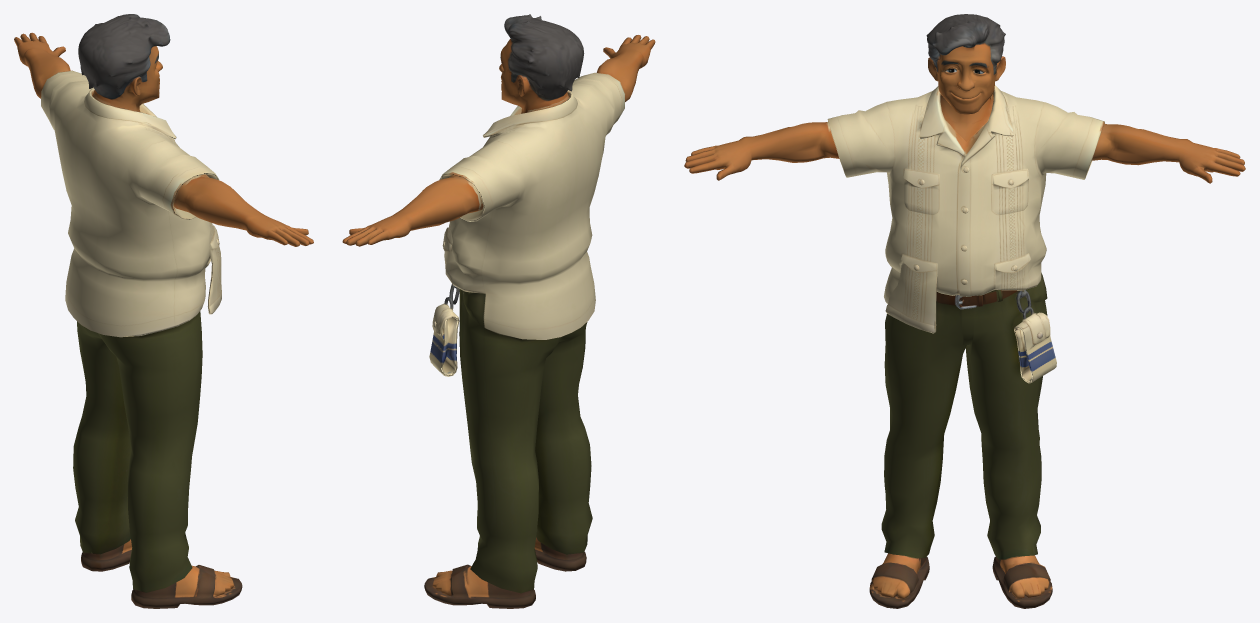
File: tripo_convert_2a0bcb0f-761a-4695-bf57-cdde10d0b257.glb
3 renders of one model, left to right at view 1: azimuth 30°, elevation 25°; view 2: azimuth 150°, elevation 25°; view 3: azimuth 270°, elevation 25°, orthographic.
Parts seen in each view (by area): view 1: tripo_node_2a0bcb0f-761a-4695-bf57-cdde10d0b257; view 2: tripo_node_2a0bcb0f-761a-4695-bf57-cdde10d0b257; view 3: tripo_node_2a0bcb0f-761a-4695-bf57-cdde10d0b257.
Boxes of the visible parts, x1,y1,x2,y2 form: tripo_node_2a0bcb0f-761a-4695-bf57-cdde10d0b257: (14,14,313,608); tripo_node_2a0bcb0f-761a-4695-bf57-cdde10d0b257: (342,14,655,608); tripo_node_2a0bcb0f-761a-4695-bf57-cdde10d0b257: (684,14,1245,608).
Size of the model in its own units: 0.2358 by 0.9995 by 0.9194.
1 material, 1 textured.
